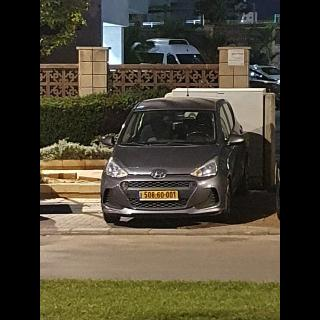LicensePlate: (143, 192, 178, 199)
